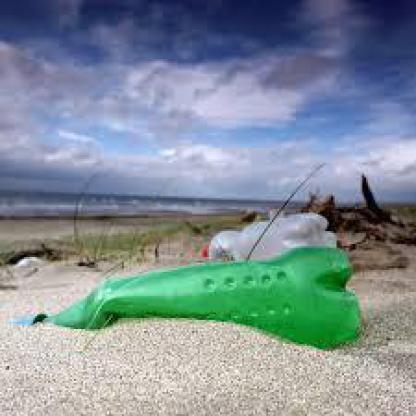plastic bottle: (12, 245, 363, 351), (202, 213, 342, 263)
